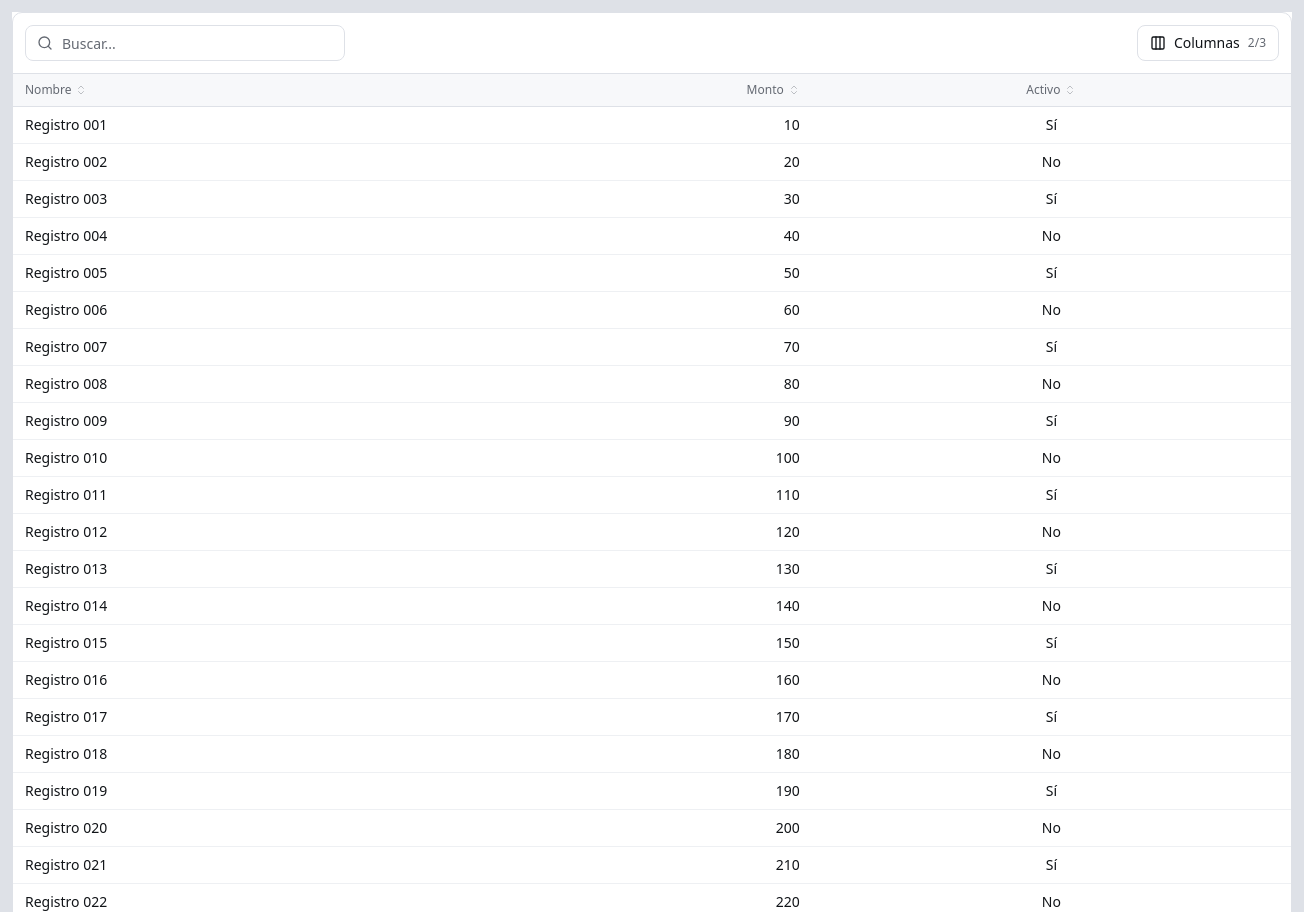
Test: DataTable › selector de columnas › permite mostrar una columna oculta
Click the button "Columnas 2/3".
click(1208, 43)  # box [1137,25,1279,61]
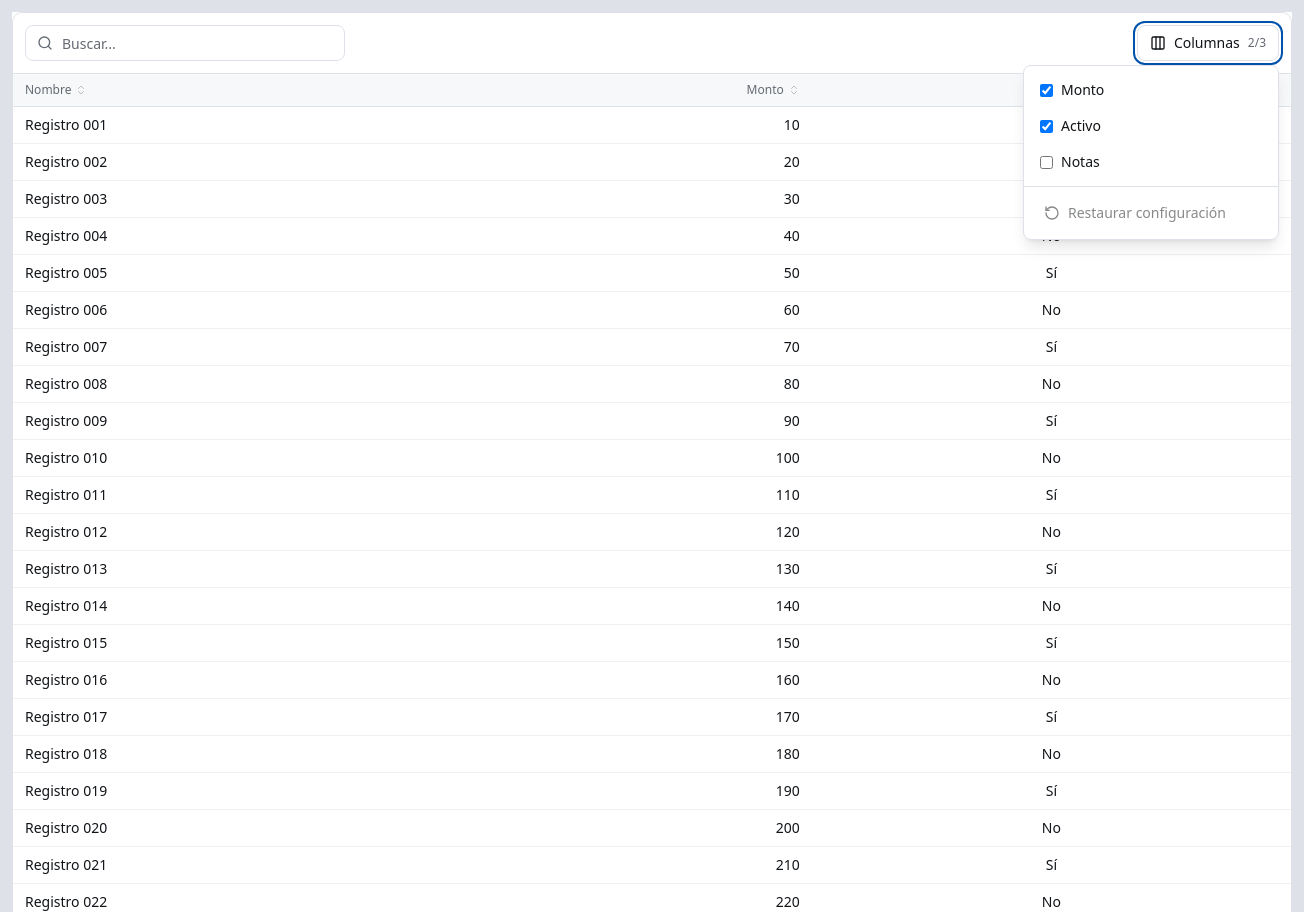
Click the checkbox labelled "Notas".
click(1046, 162)  # box [1040,156,1053,168]
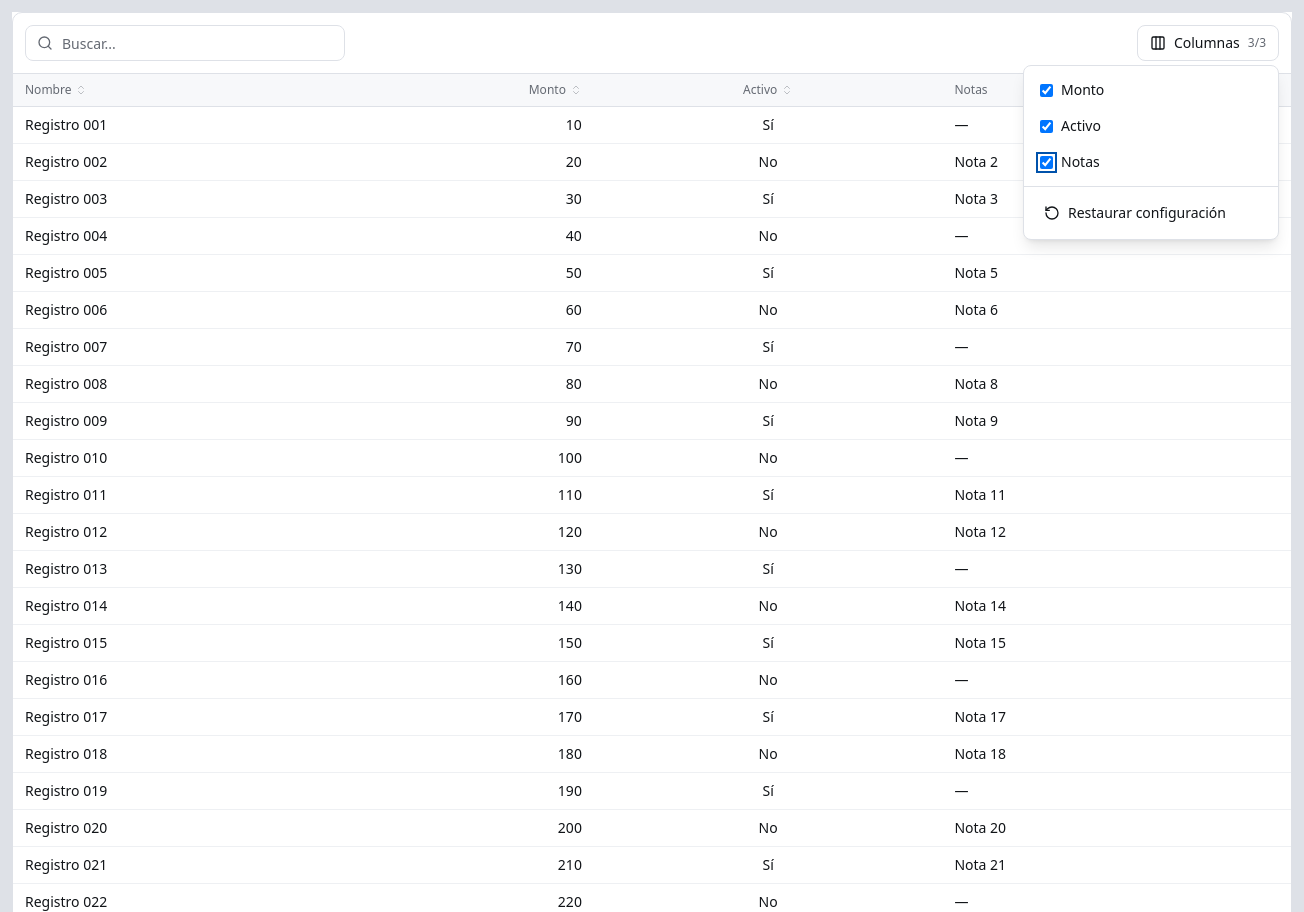
expect the column heading "Notas" is shown: met, box [942,74,1291,106]
